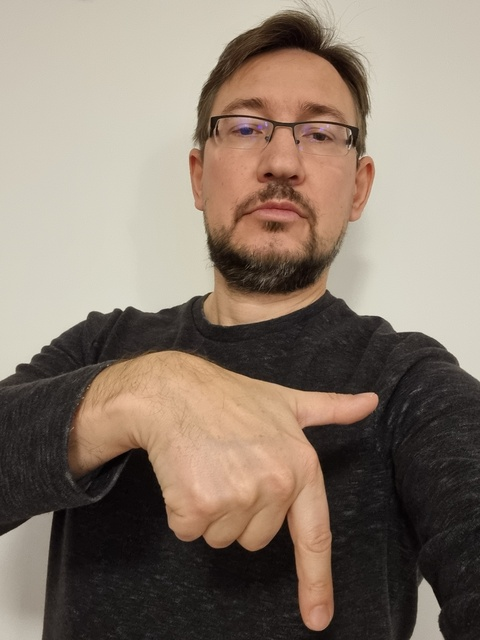GestDown: (166, 387, 378, 629)
